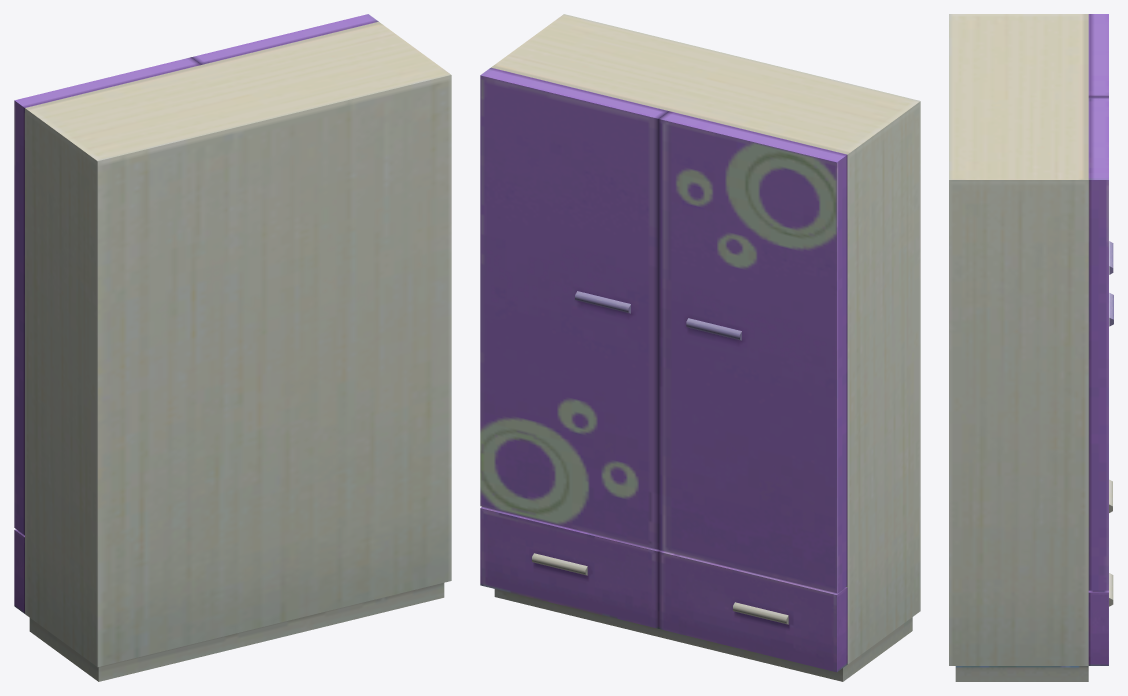
File: furni_0200517_03.FBX
The picture shows the model from 3 angles, left to right: view 1: azimuth 30°, elevation 25°; view 2: azimuth 150°, elevation 25°; view 3: azimuth 270°, elevation 25°; orthographic projection. The views are drawn at different scales.
Parts seen in each view (by area): view 1: furni_0200517_03; view 2: furni_0200517_03; view 3: furni_0200517_03.
Boxes of the visible parts, x1=… form: furni_0200517_03: x1=14, y1=14, x2=451, y2=681; furni_0200517_03: x1=480, y1=14, x2=920, y2=681; furni_0200517_03: x1=949, y1=14, x2=1113, y2=681.
Size of the model in its own units: 155 by 220 by 65.18.
1 material, 1 textured.
